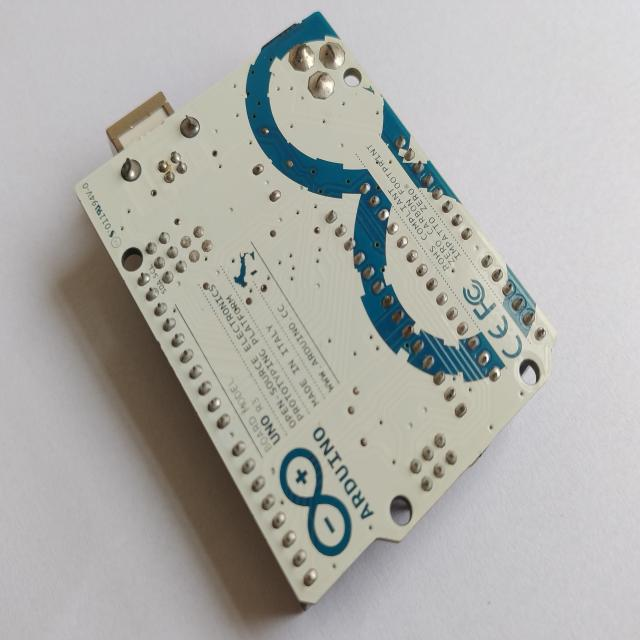arduino: (65, 6, 568, 608)
